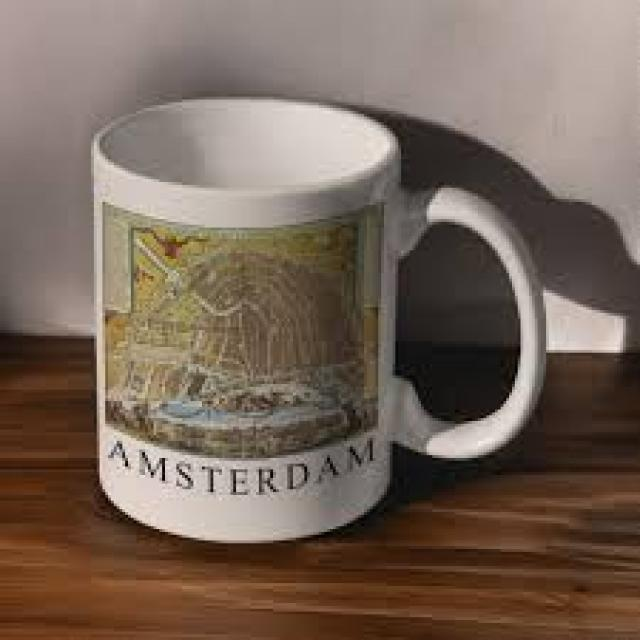taza: (90, 95, 548, 544)
